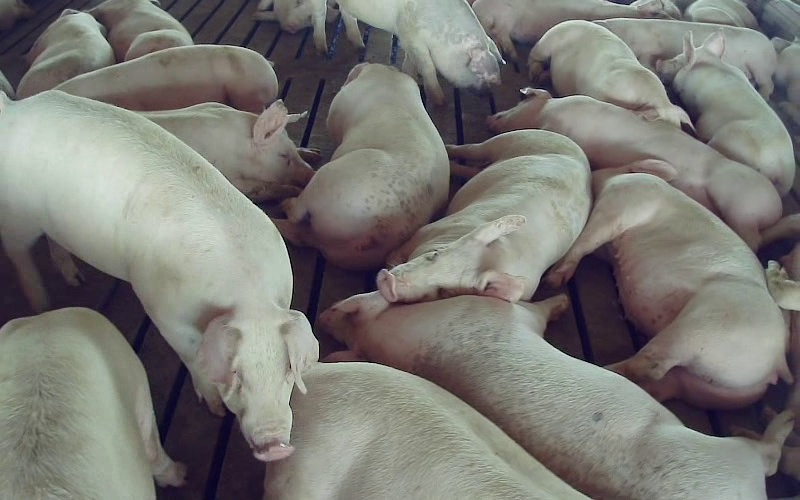pig: (320, 292, 792, 499), (546, 160, 789, 407), (487, 88, 781, 249), (266, 363, 586, 499), (377, 130, 591, 302), (277, 63, 449, 269), (656, 32, 794, 195), (139, 99, 318, 201), (528, 20, 692, 130), (337, 0, 500, 104), (56, 45, 277, 112), (595, 18, 776, 98), (16, 9, 114, 98), (88, 0, 193, 61)
